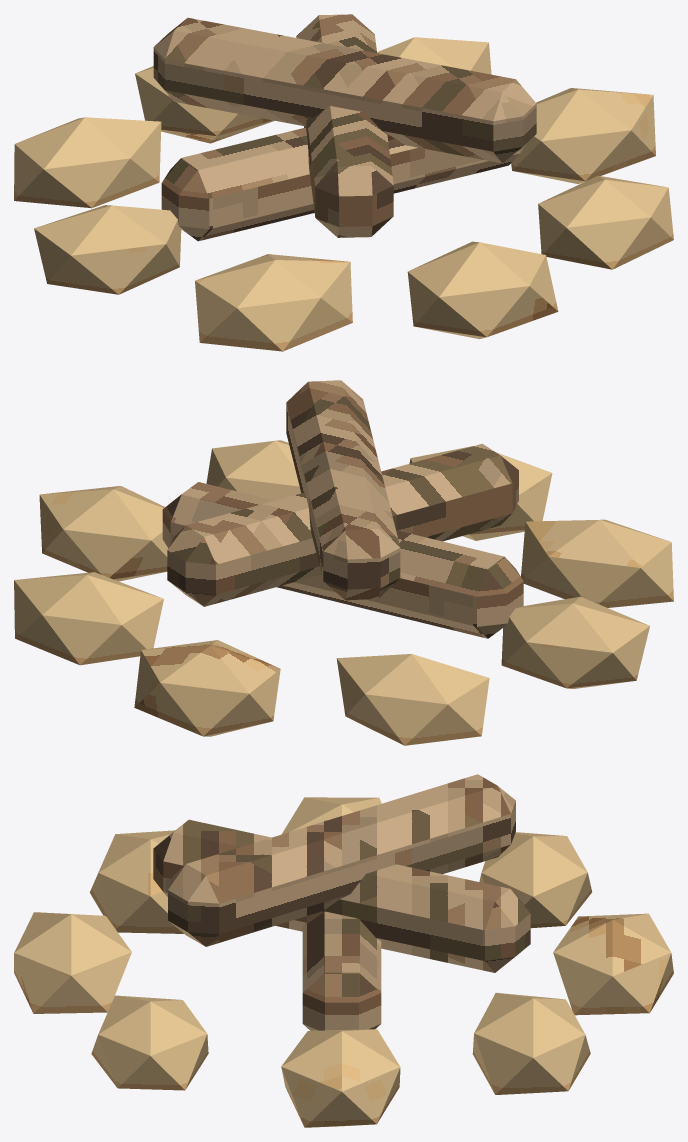
File: enfeite_fogueira.fbx
The picture shows the model from 3 angles, top to bottom: view 1: azimuth 30°, elevation 25°; view 2: azimuth 150°, elevation 25°; view 3: azimuth 270°, elevation 25°; orthographic projection. The views are drawn at different scales.
Visible parts, largest first — view 1: deserto_enfeite_fogueira; view 2: deserto_enfeite_fogueira; view 3: deserto_enfeite_fogueira.
Part boxes in pixels (x1,y1,x2,y2): deserto_enfeite_fogueira: (14,14,673,351); deserto_enfeite_fogueira: (14,380,673,745); deserto_enfeite_fogueira: (14,774,673,1127).
Size of the model in its own units: 62.4 by 18.41 by 58.53.
Materials: 2 (2 with a texture image).
